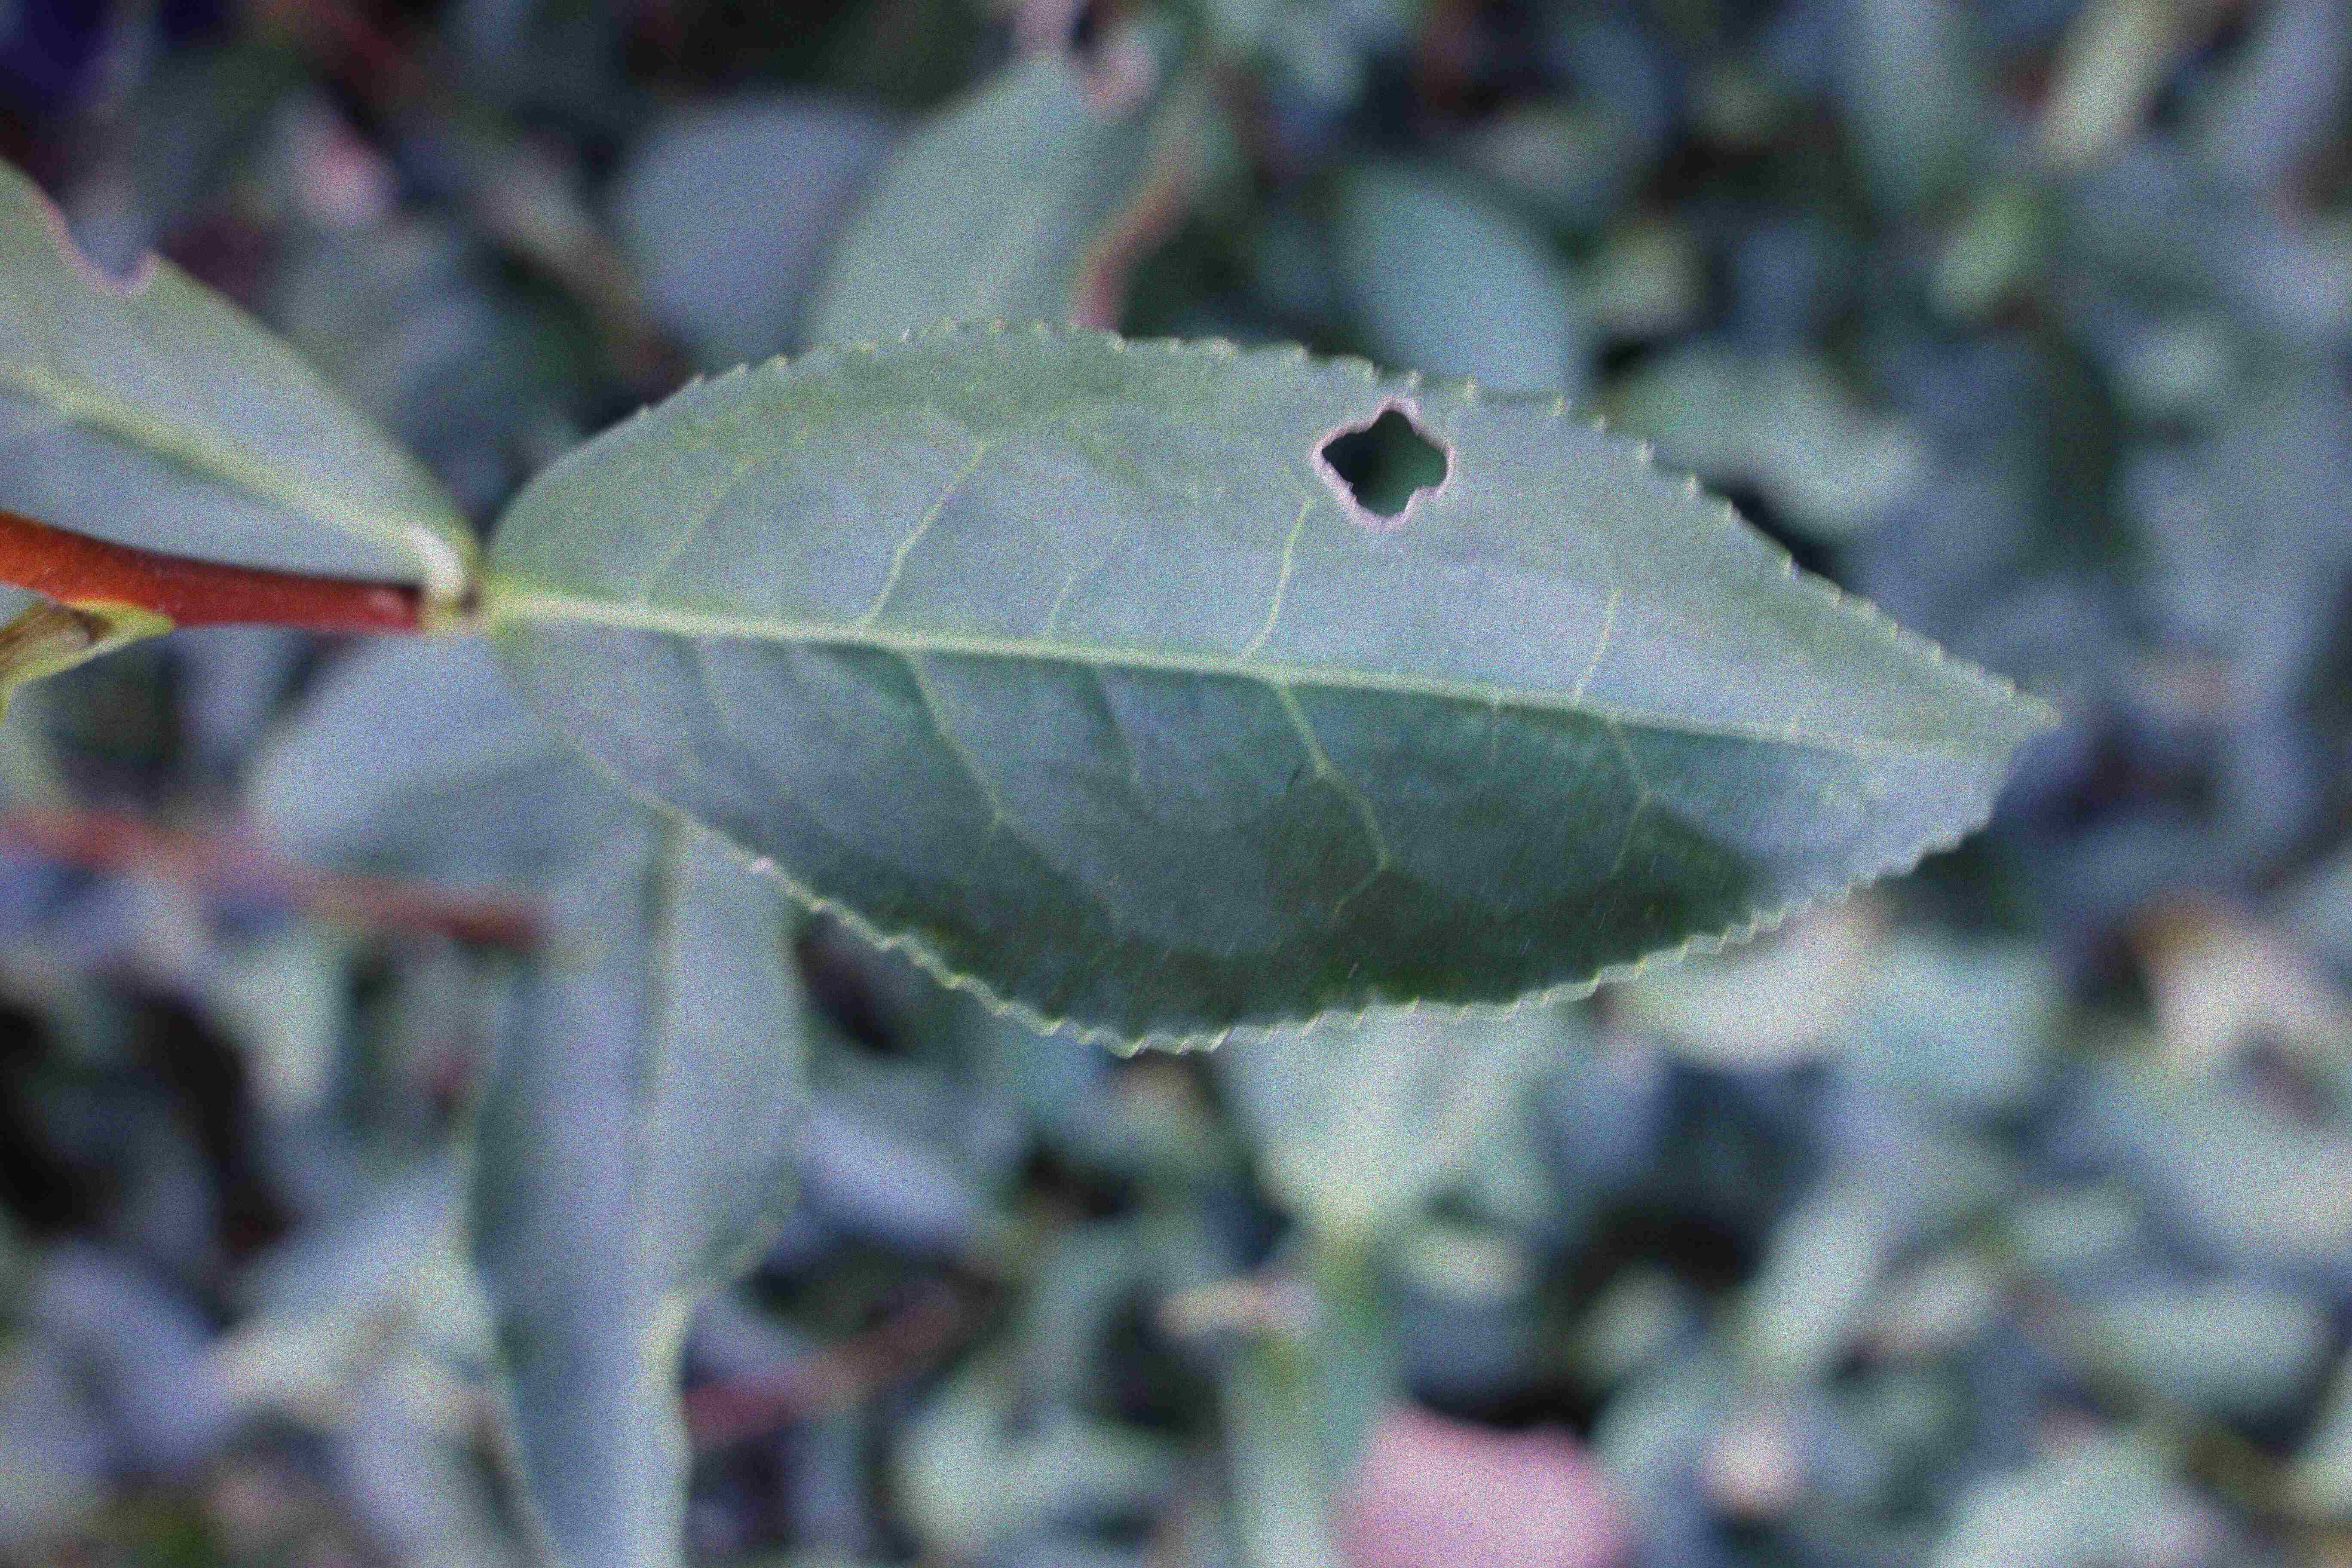chihuo_low: (474, 322, 2049, 1052), (3, 163, 469, 581)
